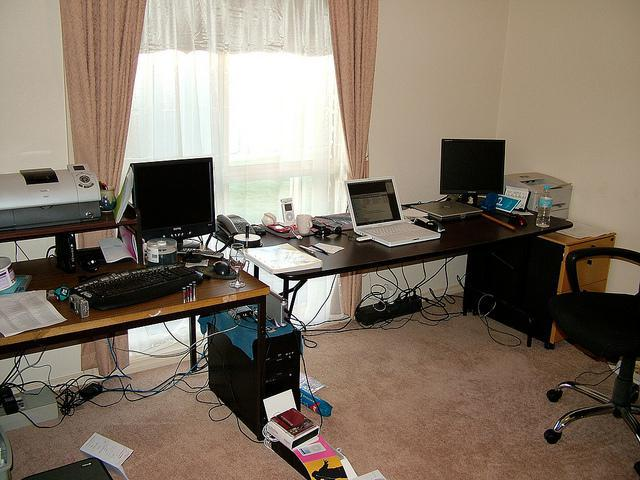tv: (125, 157, 217, 248), (349, 179, 425, 248), (443, 133, 502, 206)
